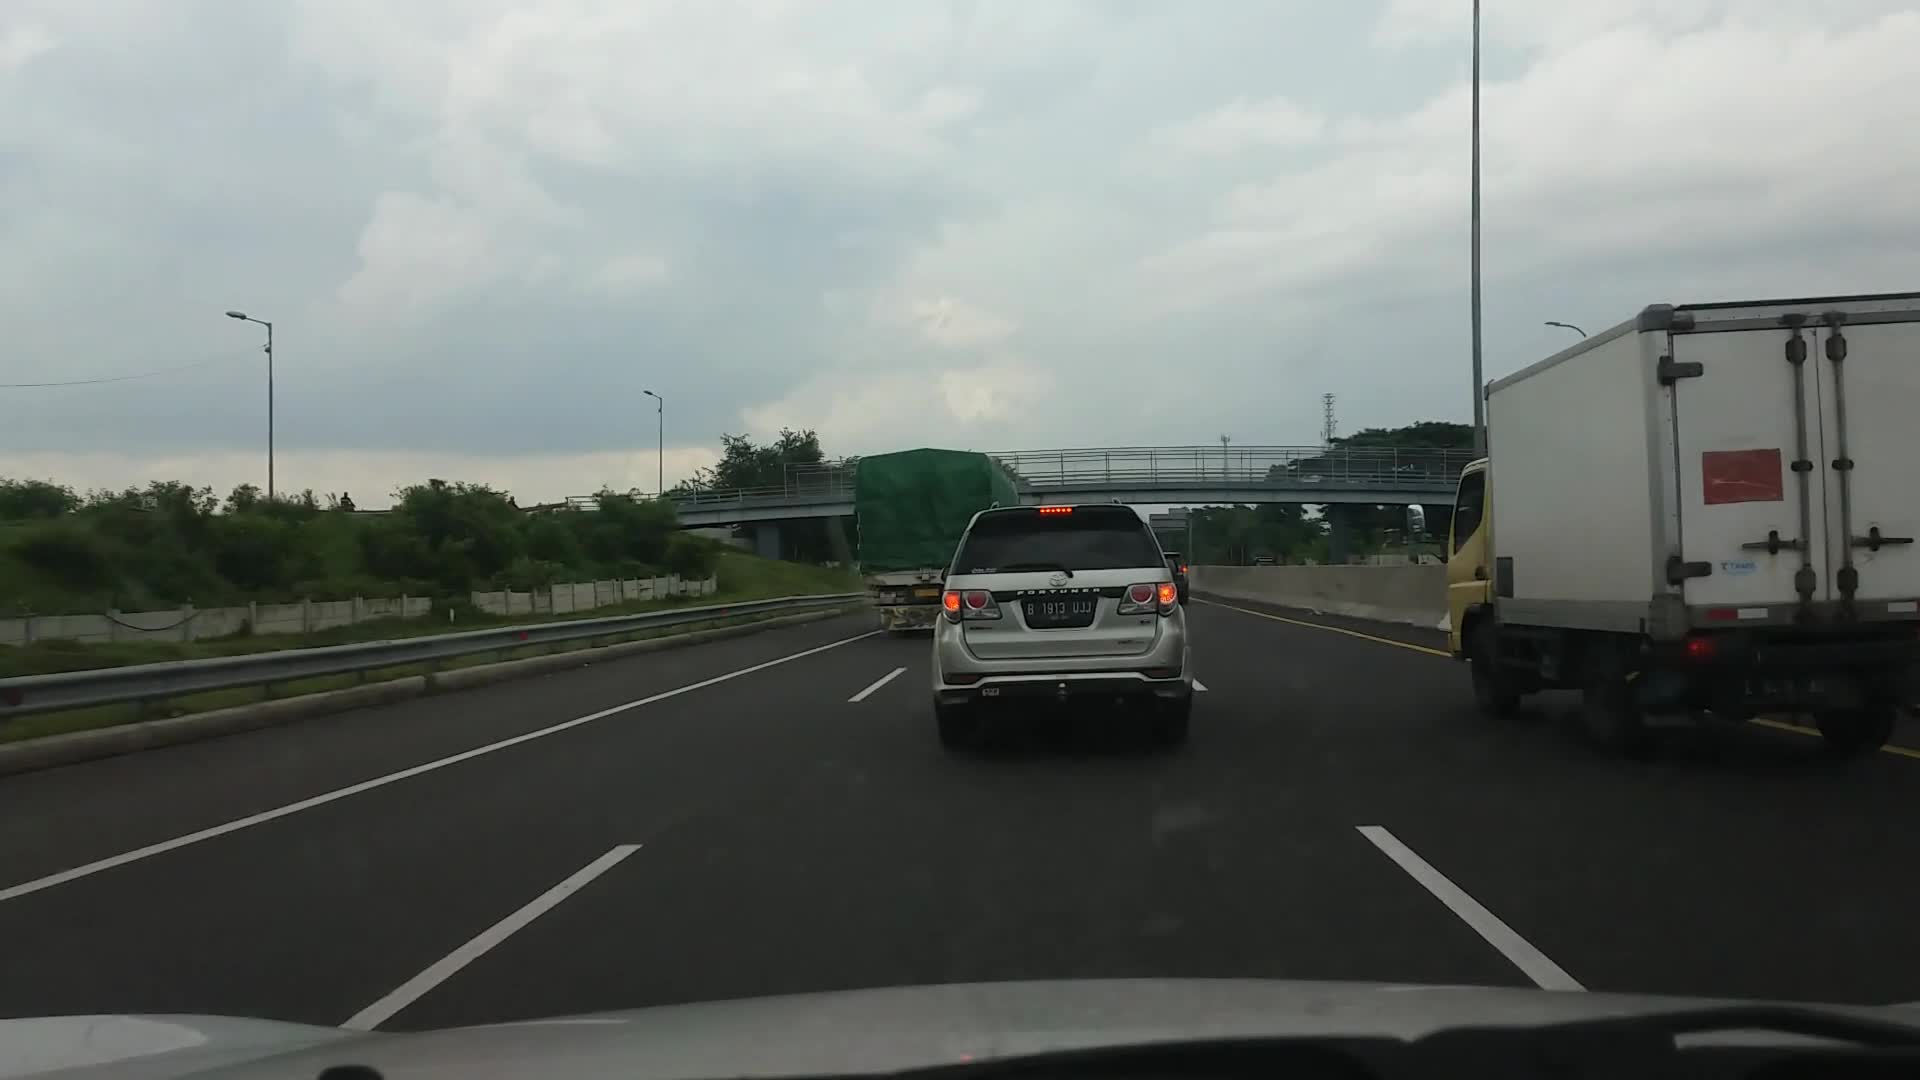plate_positive: (1025, 599, 1093, 618)
